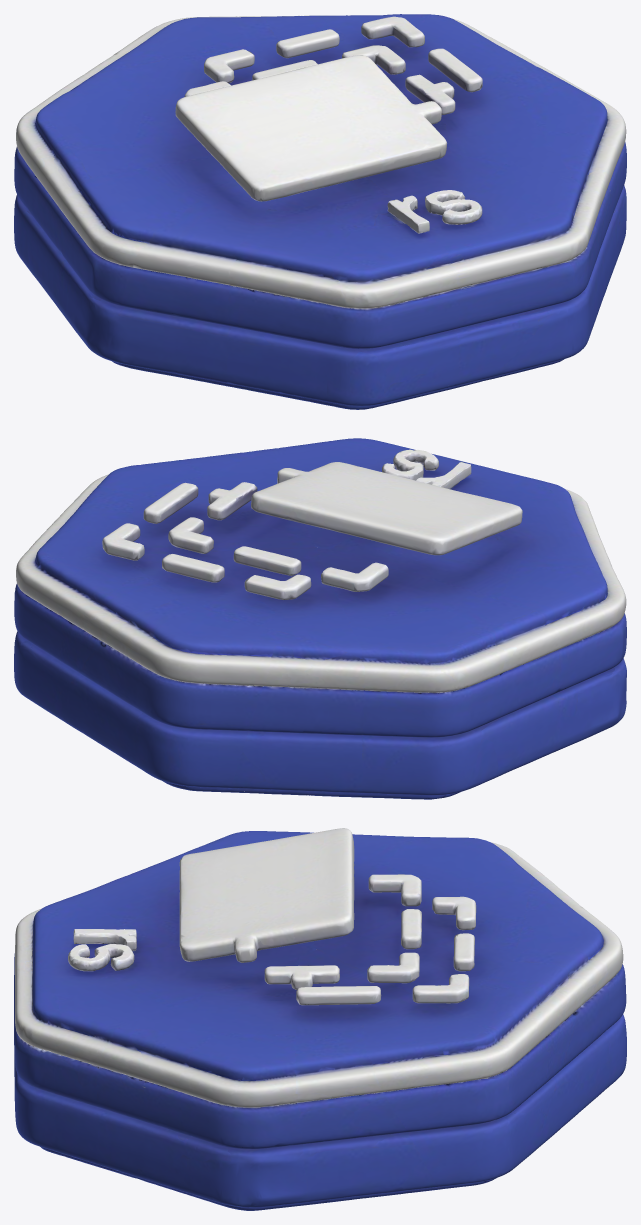
The model's file is replicaset-3d.glb.
The picture shows the model from 3 angles, top to bottom: view 1: azimuth 30°, elevation 25°; view 2: azimuth 150°, elevation 25°; view 3: azimuth 270°, elevation 25°; orthographic projection.
Parts seen in each view (by area): view 1: tripo_node_109421c7-a245-493c-b6f7-7e6f51d08f14; view 2: tripo_node_109421c7-a245-493c-b6f7-7e6f51d08f14; view 3: tripo_node_109421c7-a245-493c-b6f7-7e6f51d08f14.
Boxes of the visible parts, bbox=[...] form: tripo_node_109421c7-a245-493c-b6f7-7e6f51d08f14: bbox=[14, 14, 626, 409]; tripo_node_109421c7-a245-493c-b6f7-7e6f51d08f14: bbox=[14, 438, 626, 799]; tripo_node_109421c7-a245-493c-b6f7-7e6f51d08f14: bbox=[14, 828, 626, 1210].
Size of the model in its own units: 0.9792 by 0.3651 by 0.9775.
Materials: 1 (1 with a texture image).
